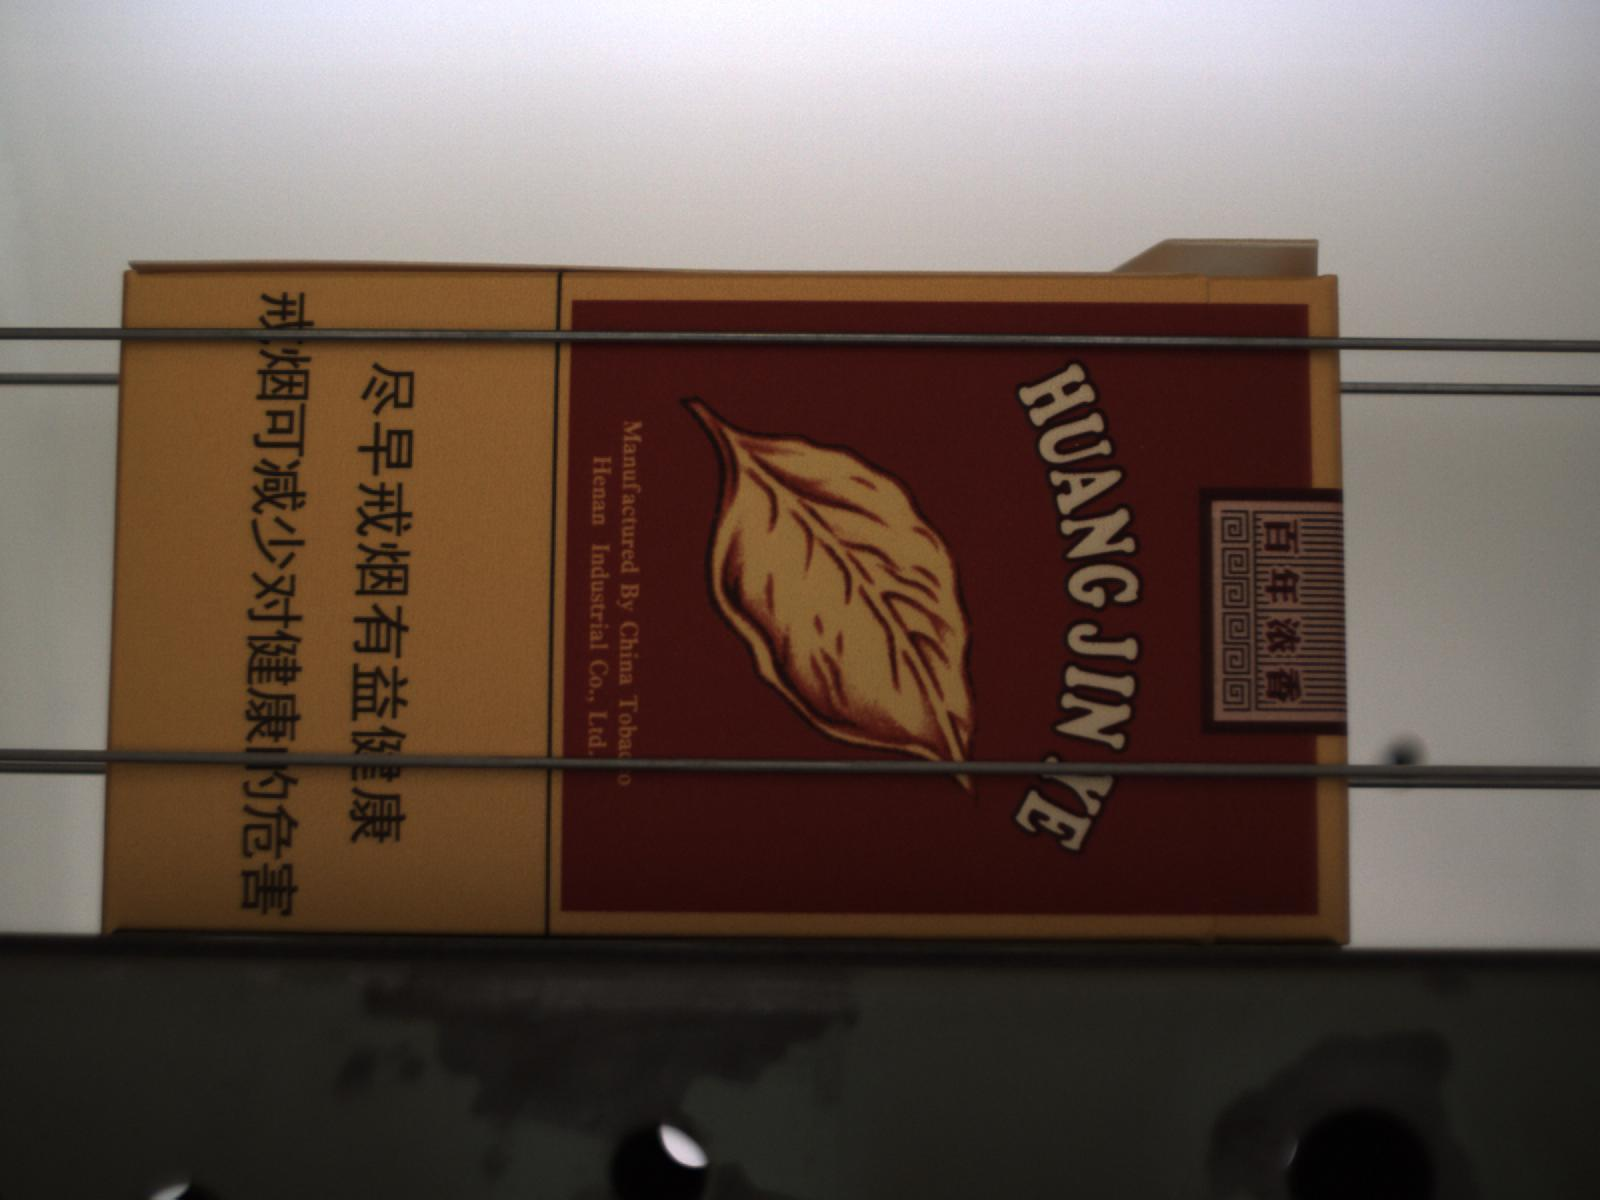bottomUpwarp_upper_1: (123, 258, 689, 277)
dirtyPrint: (1138, 444, 1146, 449), (1073, 442, 1080, 448)
headUpwarp_upper_01: (1108, 236, 1324, 280)
